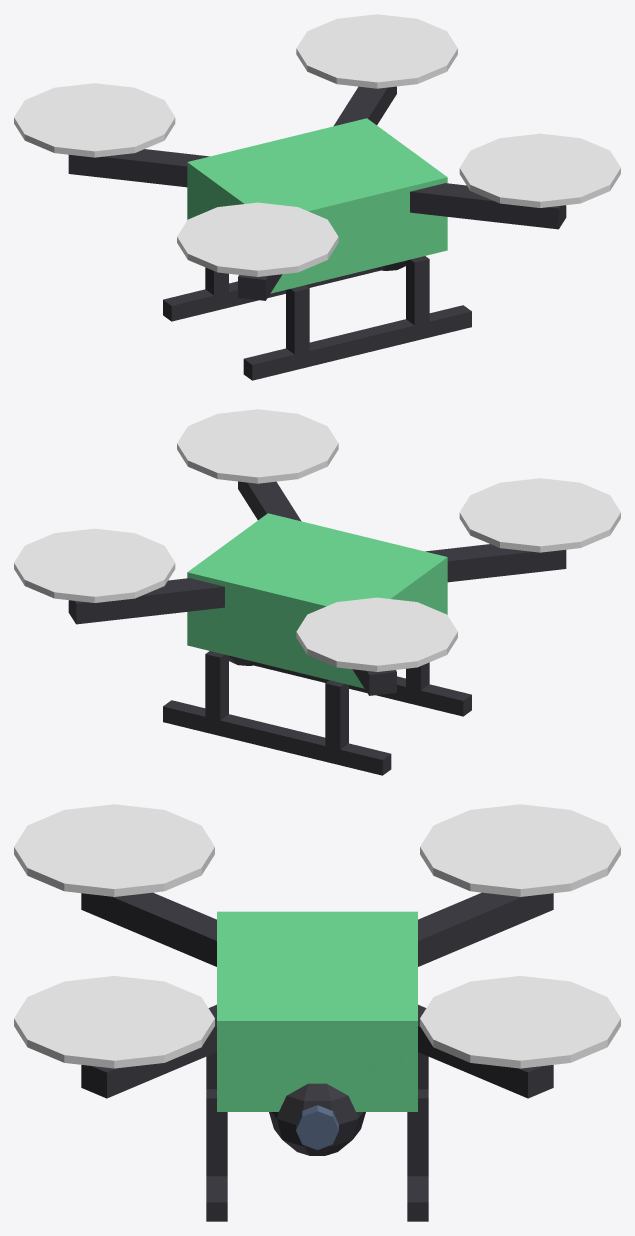
Rendered from SM_Cam_Follow.fbx.
The picture shows the model from 3 angles, top to bottom: view 1: azimuth 30°, elevation 25°; view 2: azimuth 150°, elevation 25°; view 3: azimuth 270°, elevation 25°; orthographic projection. The views are drawn at different scales.
Visible parts, largest first — view 1: SM_Cam_Follow; view 2: SM_Cam_Follow; view 3: SM_Cam_Follow.
Part boxes in pixels (bbox=[...]): SM_Cam_Follow: bbox=[14, 14, 620, 380]; SM_Cam_Follow: bbox=[14, 409, 620, 775]; SM_Cam_Follow: bbox=[14, 804, 620, 1221].
Size of the model in its own units: 0.4228 by 0.171 by 0.4228.
